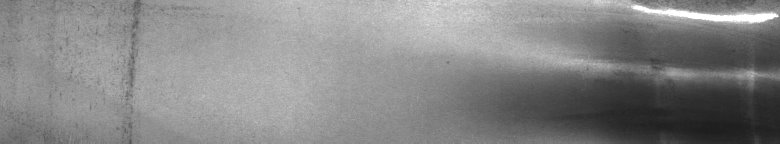ke: (556, 4, 776, 136)
